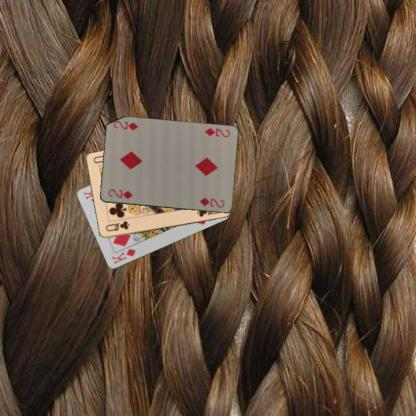2d: (105, 186, 134, 200), (202, 125, 231, 139)
Kd: (109, 246, 137, 265)
Qc: (103, 218, 130, 233)
